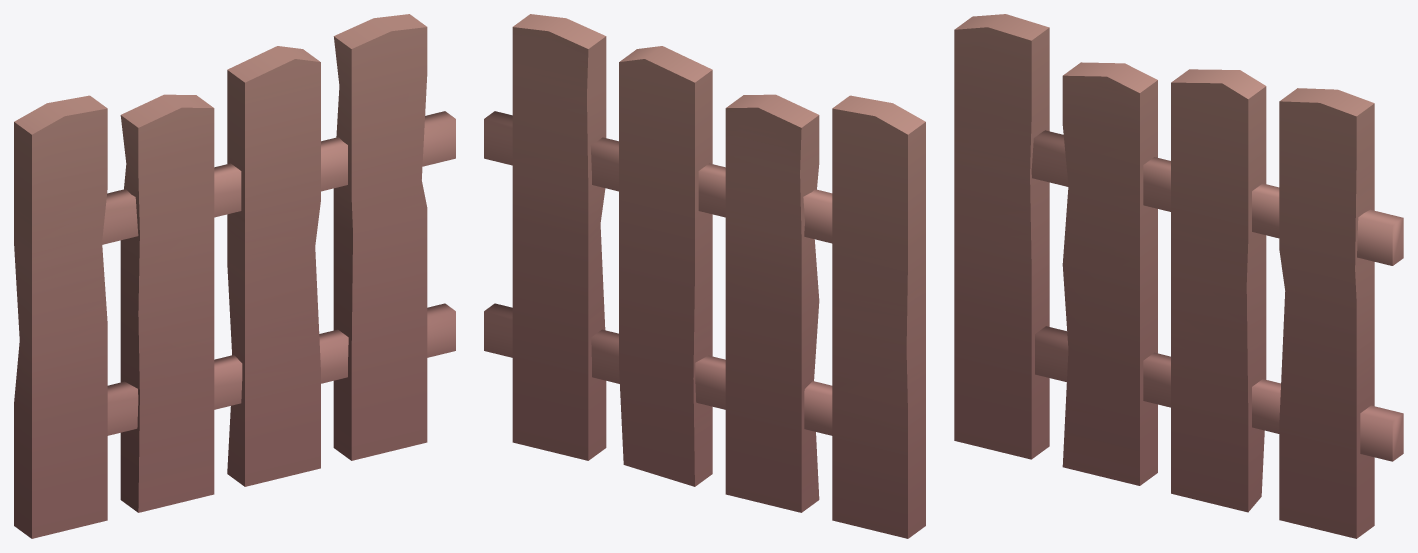
File: Fence_ClosedSide.glb
3 views of the same model, side by side, from view 1: azimuth 30°, elevation 25°; view 2: azimuth 150°, elevation 25°; view 3: azimuth 330°, elevation 25° (orthographic).
Parts seen in each view (by area): view 1: Fence_Side; view 2: Fence_Side; view 3: Fence_Side.
Boxes of the visible parts, x1,y1,x2,y2 form: Fence_Side: [14, 14, 455, 538]; Fence_Side: [484, 14, 925, 538]; Fence_Side: [954, 14, 1403, 538].
Bounding box in the file's own units: 0.471 × 0.4421 × 0.034.
Materials: 1 (1 with a texture image).
